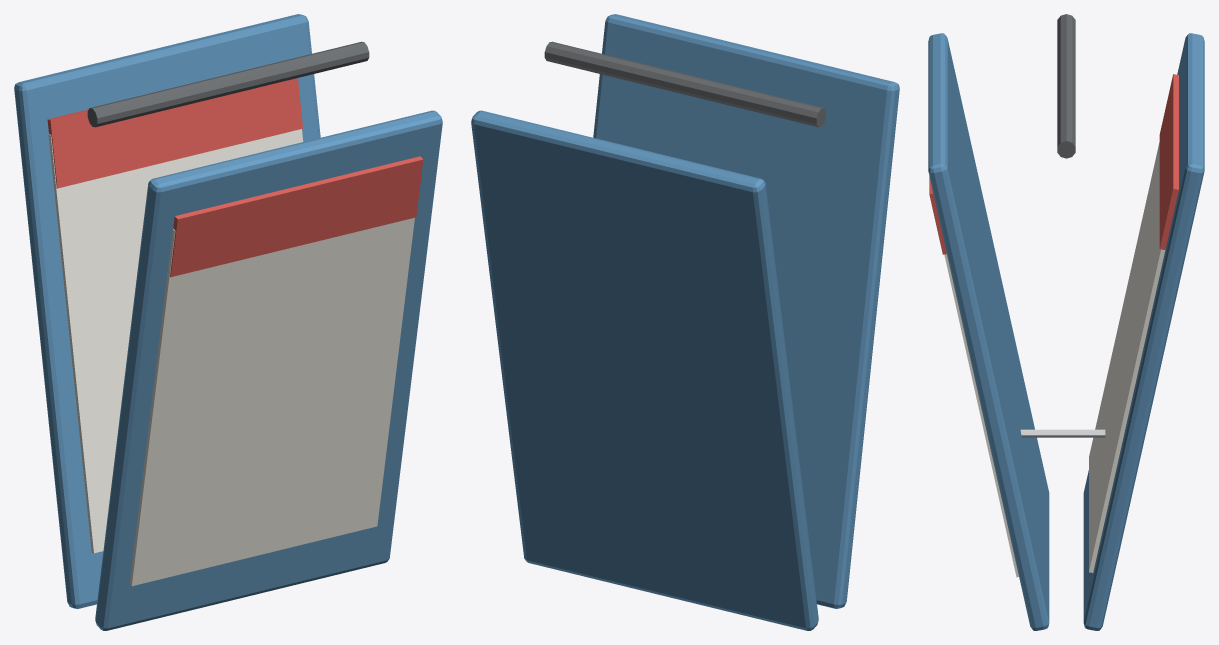
Rendered from car-repair-garage-and-mot-workshop-car-repair-garage-a-7d37c6d3__34034.glb.
3 renders of one model, left to right at view 1: azimuth 30°, elevation 25°; view 2: azimuth 150°, elevation 25°; view 3: azimuth 270°, elevation 25°, orthographic. The views are drawn at different scales.
Visible parts, largest first — view 1: car-repair-garage-and-mot-workshop-price-list-stand; view 2: car-repair-garage-and-mot-workshop-price-list-stand; view 3: car-repair-garage-and-mot-workshop-price-list-stand.
Boxes of the visible parts, x1,y1,x2,y2 form: car-repair-garage-and-mot-workshop-price-list-stand: (14, 14, 442, 630); car-repair-garage-and-mot-workshop-price-list-stand: (471, 14, 899, 630); car-repair-garage-and-mot-workshop-price-list-stand: (928, 14, 1204, 630).
Size of the model in its own units: 0.66 by 1.11 by 0.569.
